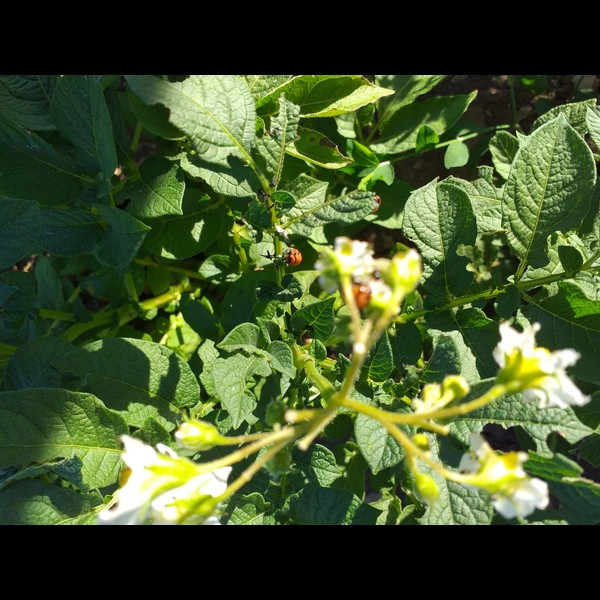hrosc: (352, 279, 373, 312), (285, 245, 304, 267)
